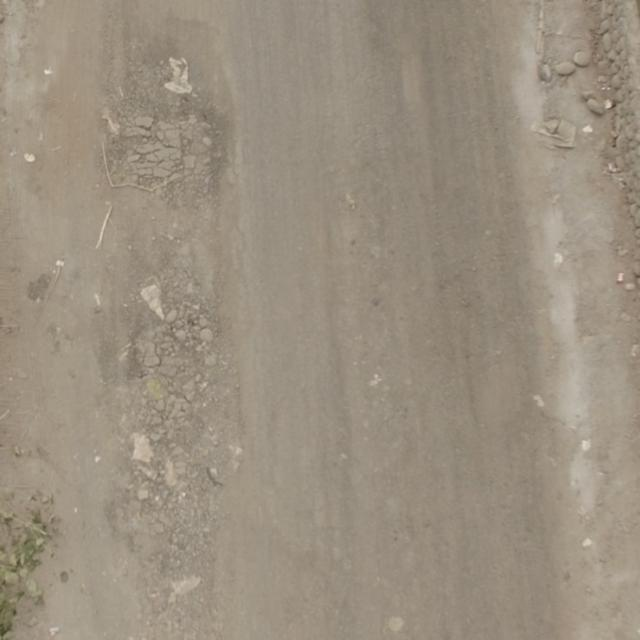BACHE: (104, 270, 242, 581), (100, 39, 229, 202)
